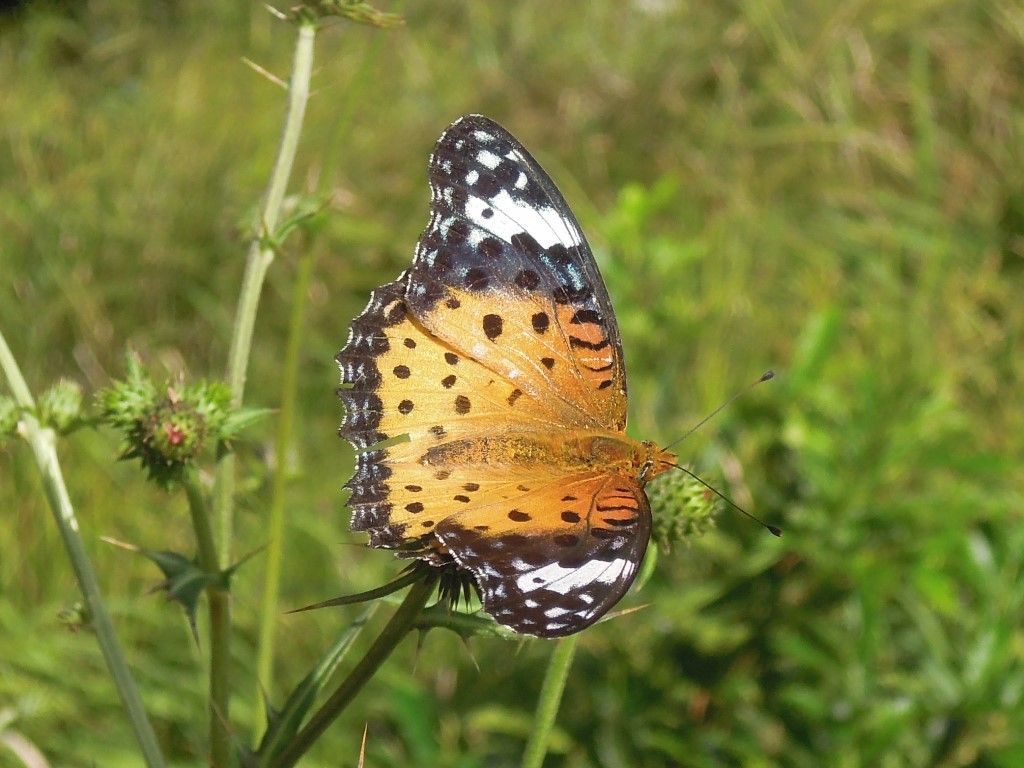Argyreus hyperbius: (286, 101, 792, 651)
butterfly: (288, 103, 794, 653)
